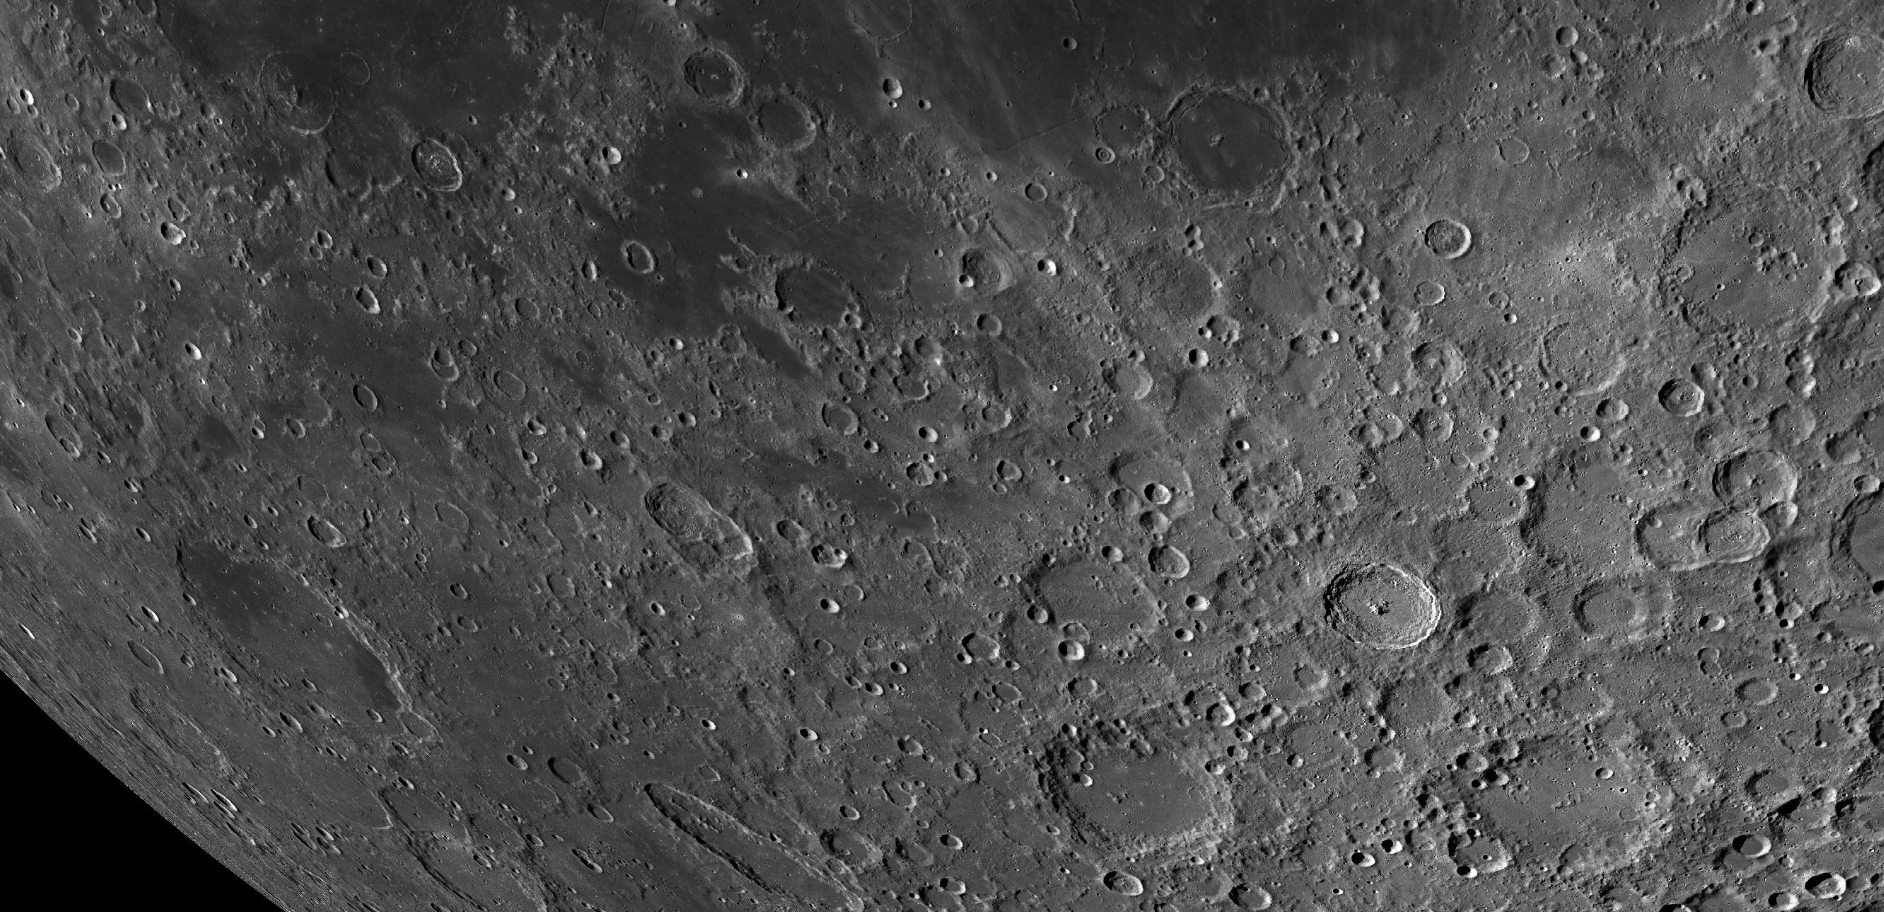crater: (149, 518, 463, 763), (1016, 707, 1260, 869), (1134, 62, 1316, 232), (1292, 547, 1445, 661), (243, 44, 348, 147), (661, 35, 753, 124), (405, 124, 479, 196), (1413, 209, 1492, 266), (606, 230, 673, 288), (1483, 123, 1540, 185), (1655, 372, 1710, 427), (76, 132, 135, 181), (536, 743, 592, 792), (1729, 664, 1788, 711), (965, 304, 1027, 347), (346, 372, 398, 421), (1728, 825, 1779, 868), (484, 359, 532, 400), (1013, 173, 1054, 209), (872, 61, 910, 99)
